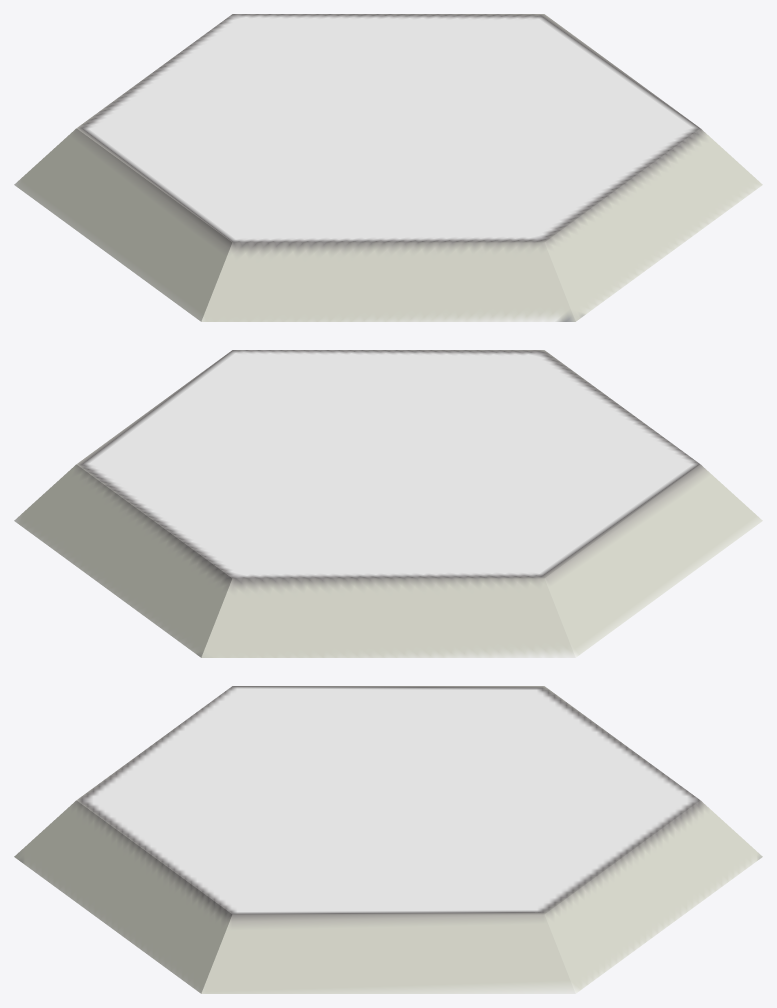
Rendered from Hex_Snow_Shore.fbx.
3 renders of one model, top to bottom at view 1: azimuth 30°, elevation 25°; view 2: azimuth 150°, elevation 25°; view 3: azimuth 270°, elevation 25°, orthographic.
Visible parts, largest first — view 1: Hex_Snow_Shore; view 2: Hex_Snow_Shore; view 3: Hex_Snow_Shore.
Boxes of the visible parts, x1=… form: Hex_Snow_Shore: x1=14, y1=14, x2=762, y2=321; Hex_Snow_Shore: x1=14, y1=350, x2=762, y2=657; Hex_Snow_Shore: x1=14, y1=686, x2=762, y2=993.
Size of the model in its own units: 1039 by 100 by 1200.
Materials: 1 (1 with a texture image).
